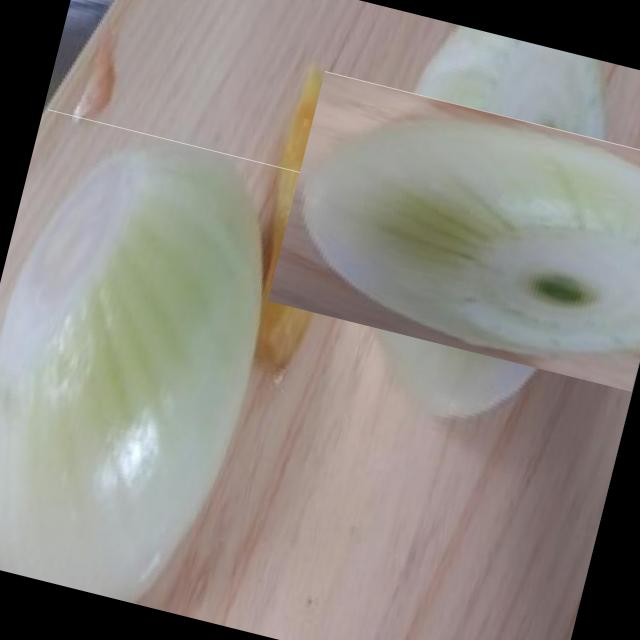Onion: (0, 108, 301, 613), (295, 43, 640, 424)
